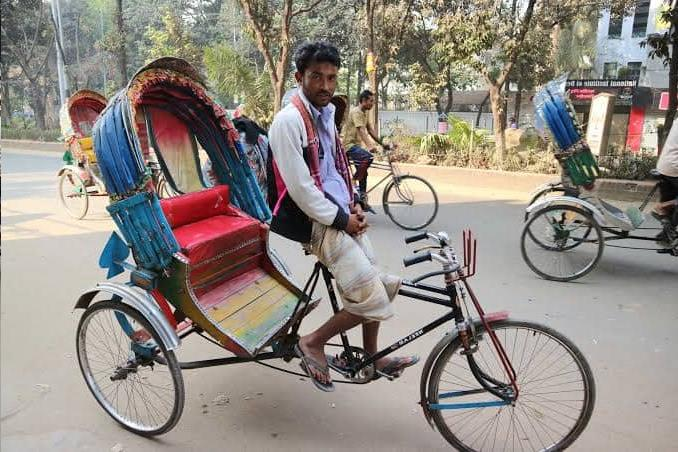Rickshaw: (77, 17, 587, 440), (534, 62, 676, 317), (316, 81, 442, 232), (52, 75, 128, 238)
